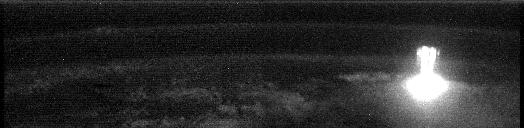positive: (413, 43, 440, 76)
